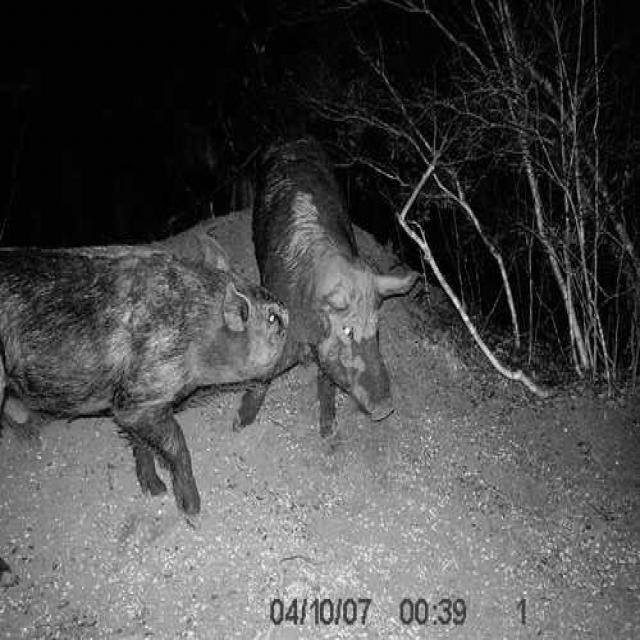boar: (0, 234, 332, 510), (251, 137, 415, 432)
